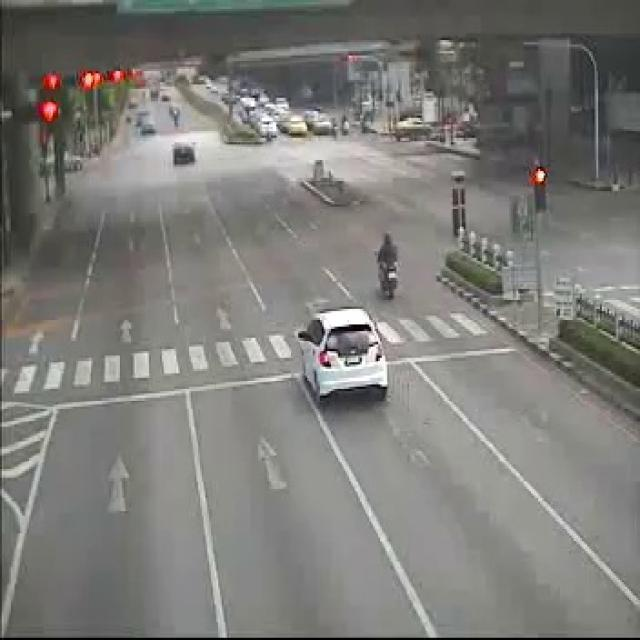car: (297, 307, 384, 399)
motobike: (374, 232, 396, 295)
red_light: (527, 163, 547, 210), (76, 71, 127, 87)
stop_line: (54, 373, 296, 408), (387, 349, 514, 362)
